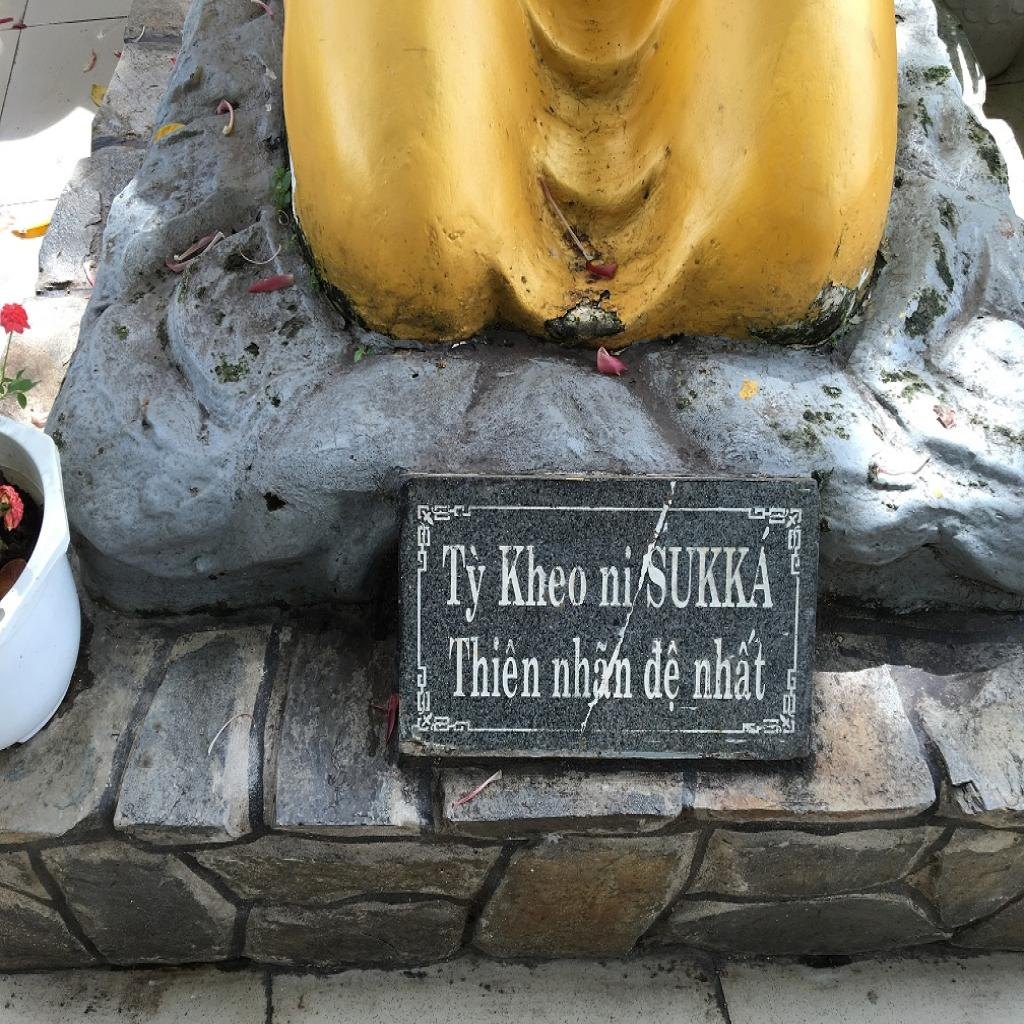text: (642, 522, 782, 614), (448, 632, 547, 704), (493, 539, 590, 611), (549, 632, 636, 704), (440, 535, 487, 627), (642, 631, 687, 717), (596, 536, 636, 612)
